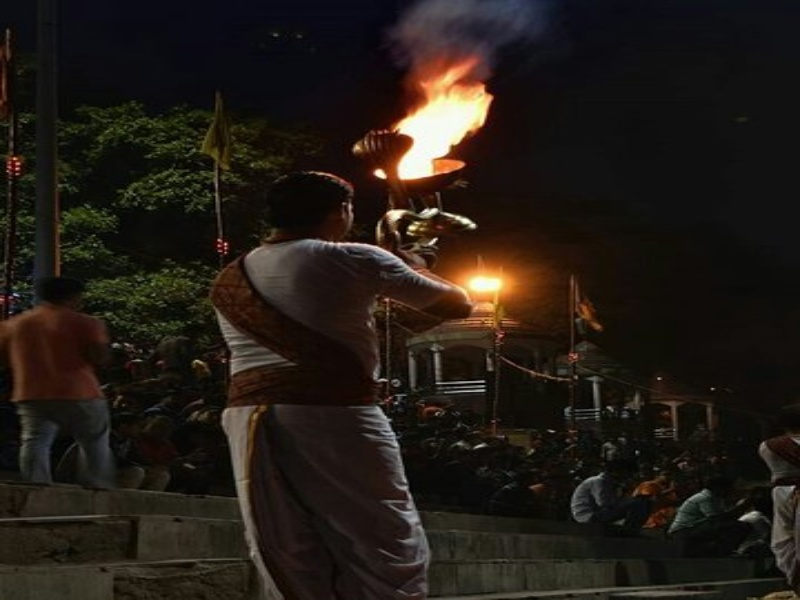smoke: (390, 3, 555, 71)
